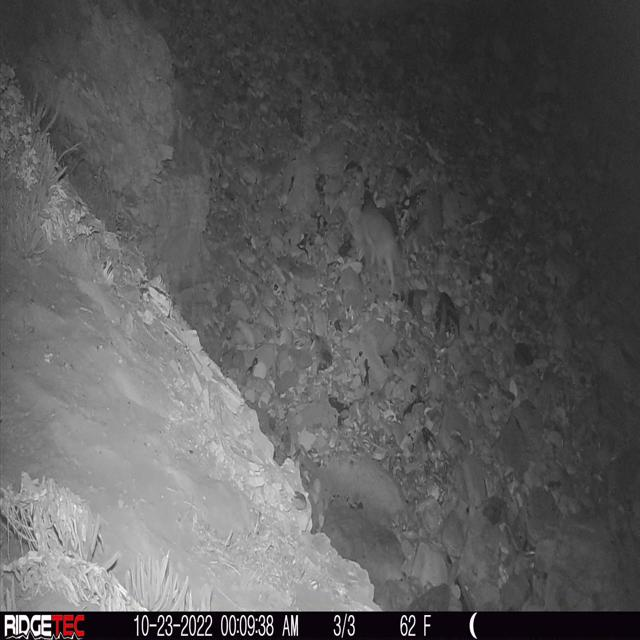coyote: (352, 200, 407, 295)
